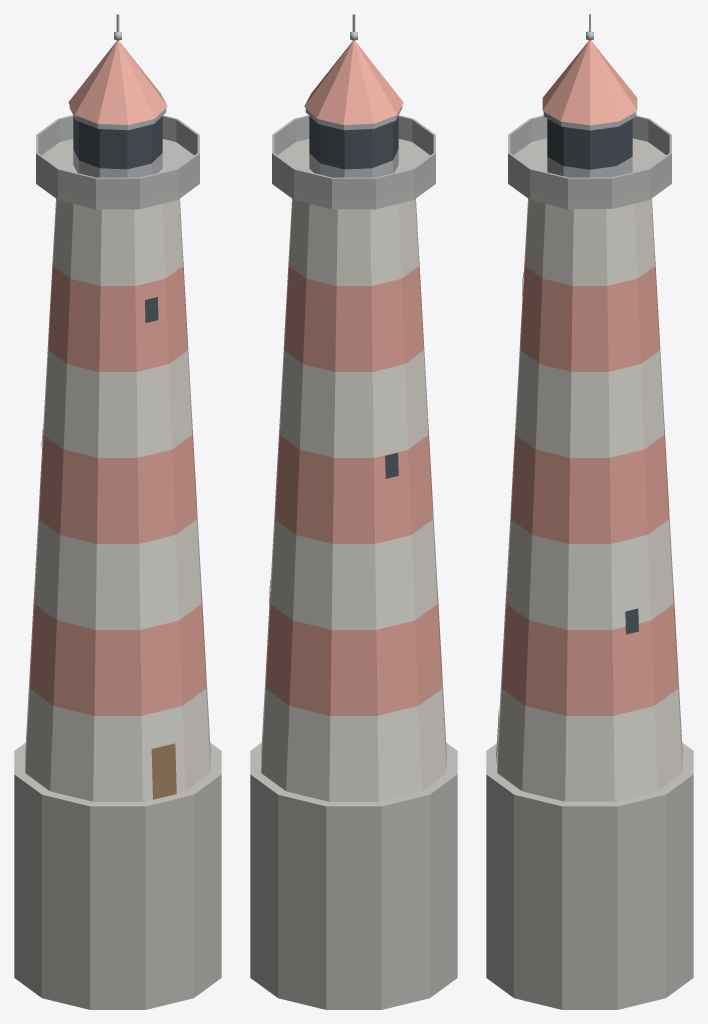
File: lighthouse_l.glb
The picture shows the model from 3 angles, left to right: view 1: azimuth 30°, elevation 25°; view 2: azimuth 150°, elevation 25°; view 3: azimuth 270°, elevation 25°; orthographic projection.
Visible parts, largest first — view 1: lighthouse_l; view 2: lighthouse_l; view 3: lighthouse_l.
Part boxes in pixels (x1=…): lighthouse_l: x1=14, y1=14, x2=221, y2=1009; lighthouse_l: x1=250, y1=14, x2=457, y2=1009; lighthouse_l: x1=486, y1=14, x2=693, y2=1009.
Bounding box in the file's own units: 8.31 × 42.08 × 8.31.
